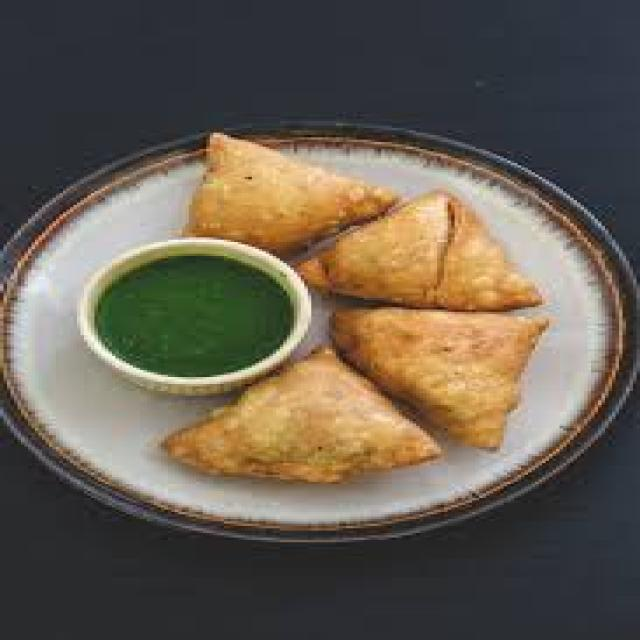SAMOSA: (168, 347, 437, 482), (336, 310, 542, 447), (322, 191, 539, 310), (189, 133, 392, 251)
